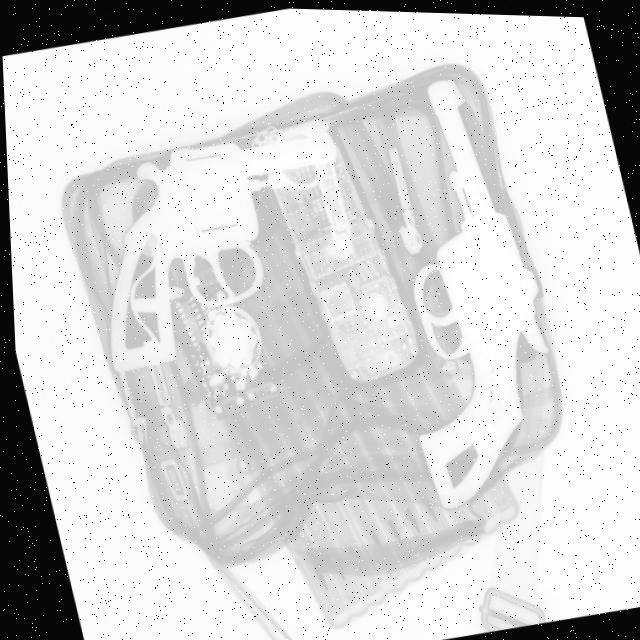pistol: (334, 61, 587, 518), (59, 112, 380, 382)
